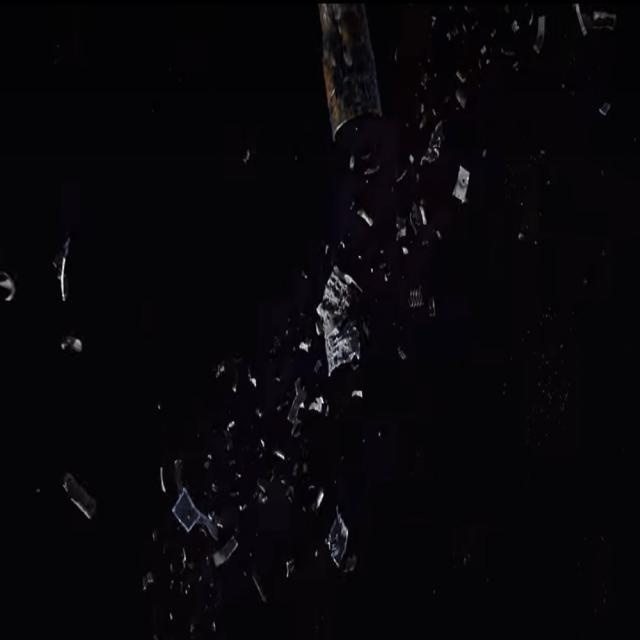large_debris: (317, 1, 384, 151), (169, 481, 244, 581), (317, 266, 367, 371), (60, 467, 94, 522), (417, 114, 447, 171), (324, 517, 357, 565), (56, 242, 78, 306), (452, 159, 476, 207), (285, 383, 306, 435), (248, 565, 274, 605), (530, 12, 551, 58), (55, 332, 89, 360), (409, 201, 429, 236), (1, 269, 18, 307), (153, 463, 171, 496), (575, 1, 590, 36), (595, 9, 621, 27), (393, 215, 408, 244), (282, 555, 298, 582), (254, 480, 270, 506), (408, 283, 422, 311), (358, 208, 375, 230), (455, 89, 471, 112), (308, 392, 324, 414), (315, 487, 331, 507), (272, 446, 290, 462), (453, 66, 469, 84), (258, 430, 269, 451), (217, 361, 227, 384), (397, 342, 407, 364), (301, 340, 313, 358), (351, 386, 364, 402), (248, 371, 258, 390), (598, 105, 610, 120), (348, 158, 356, 177), (429, 300, 437, 318), (401, 243, 409, 260), (226, 419, 236, 431), (315, 548, 318, 564)
